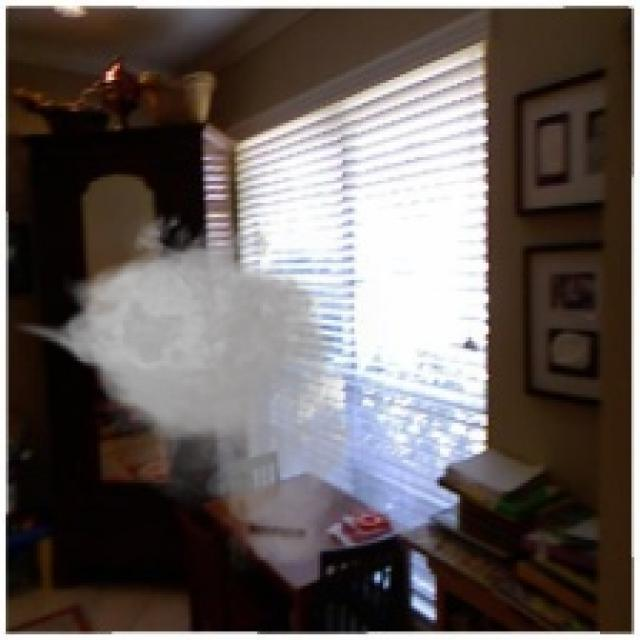Smoke: (11, 203, 372, 572)
